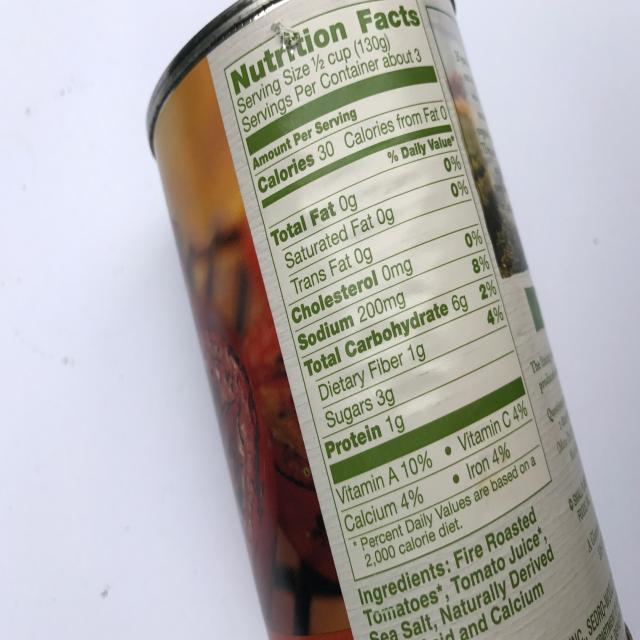metal: (145, 0, 636, 640)
